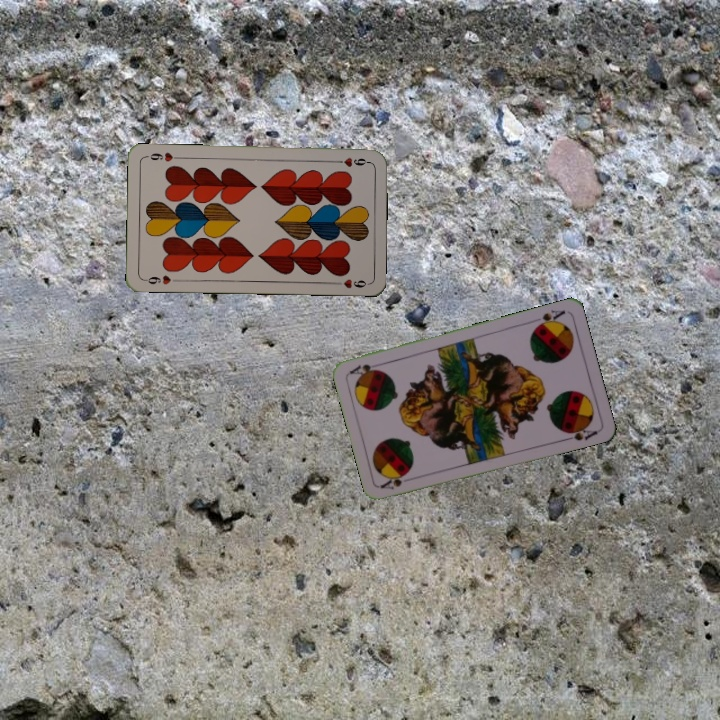H9: (140, 271, 181, 287), (331, 154, 372, 169)
SA: (531, 306, 568, 331), (377, 471, 410, 492)
